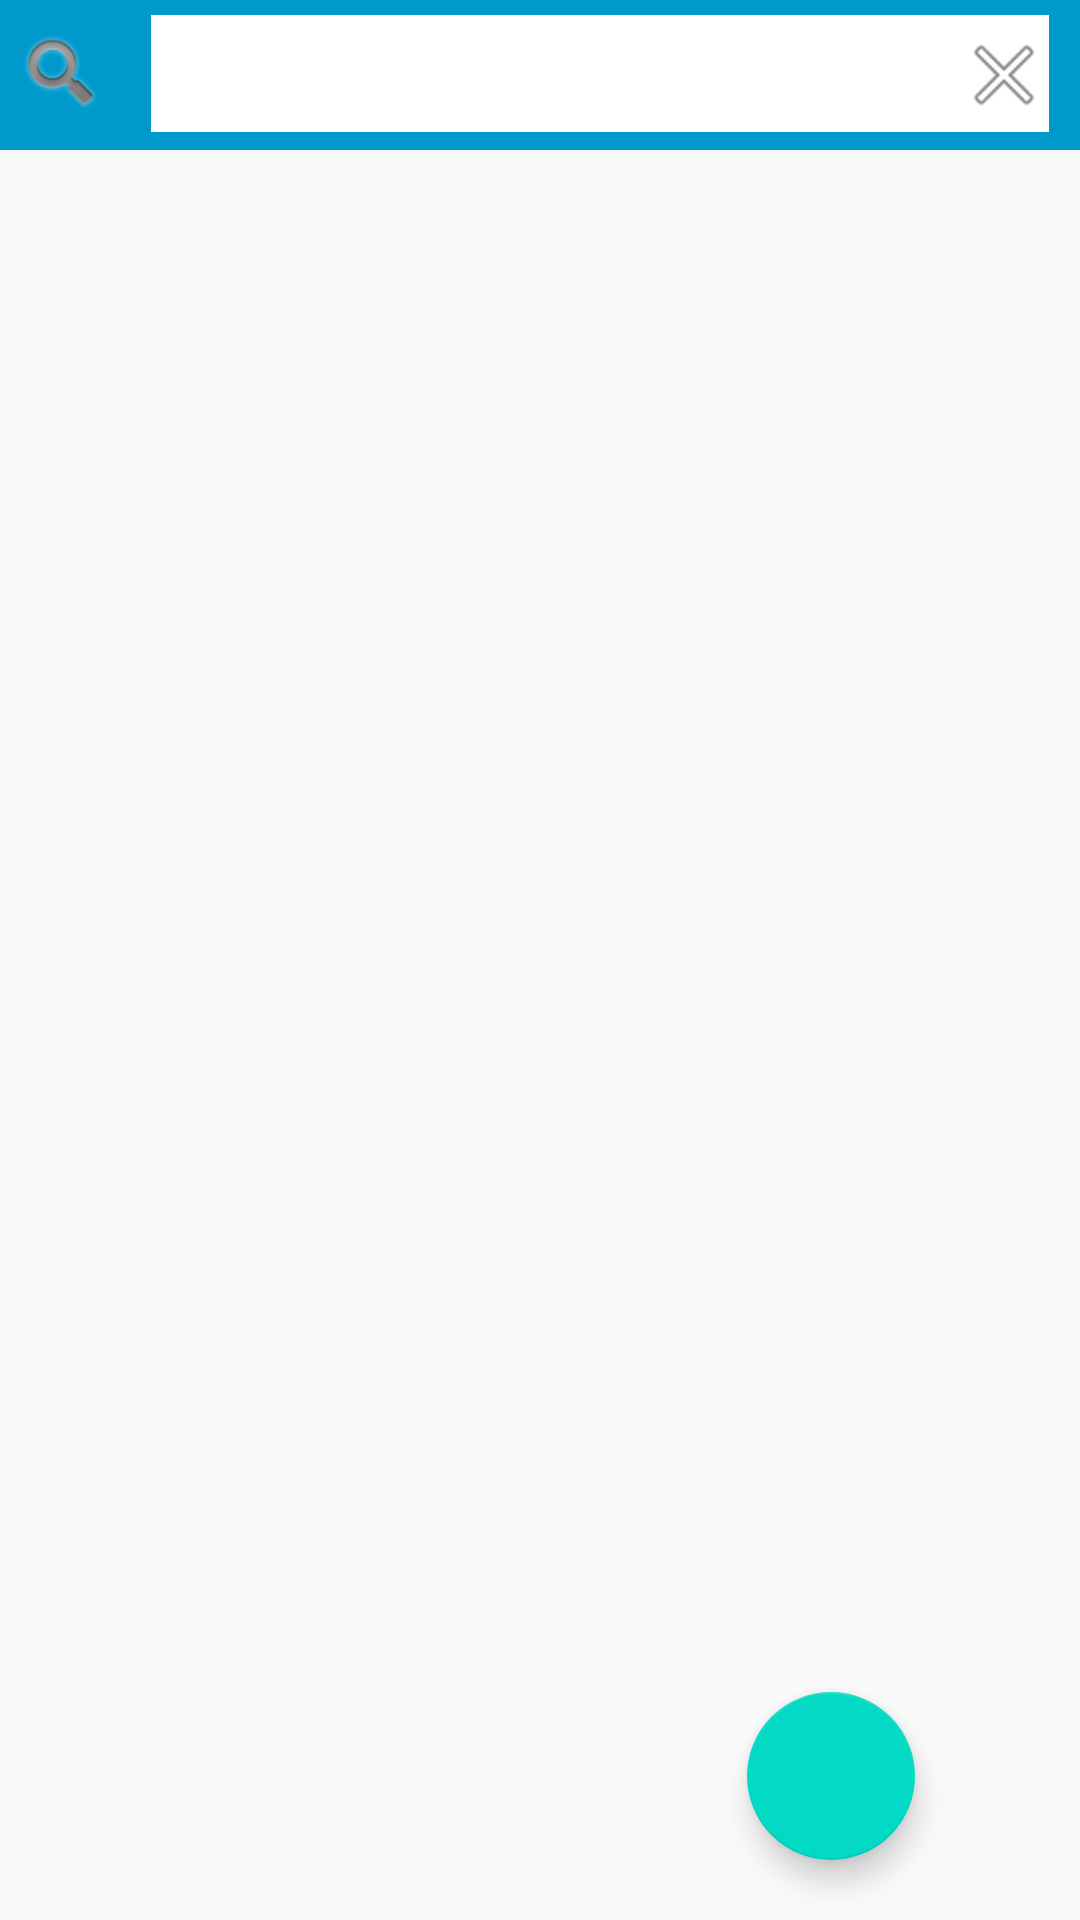

Icon click points for this 1080px x 1920px phone screenshot, format (x=x, y=y):
close clear cancel: (x=1004, y=75)
